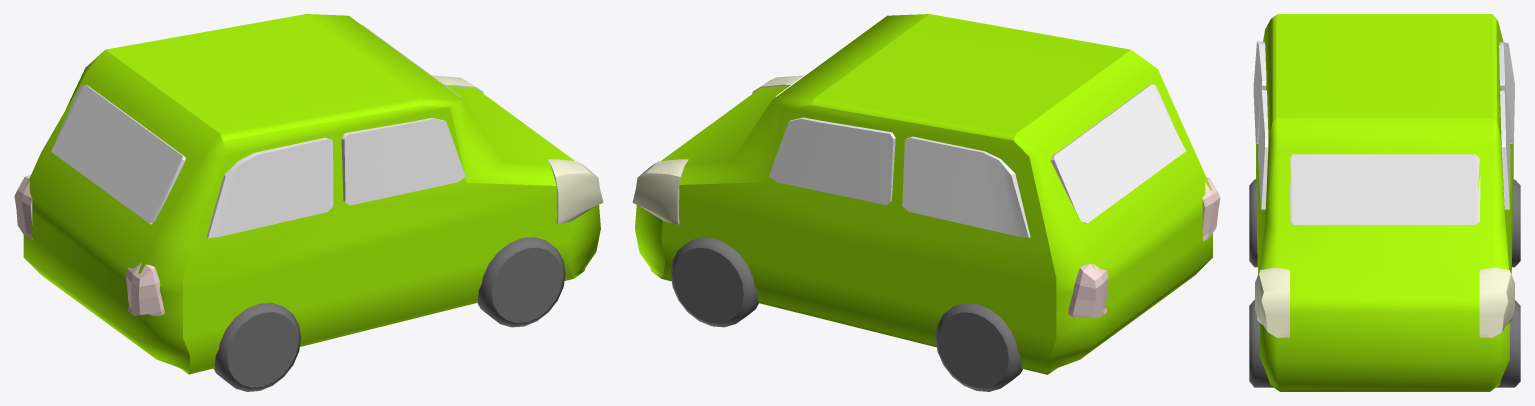
File: CarroVerde.fbx
3 renders of one model, left to right at view 1: azimuth 30°, elevation 25°; view 2: azimuth 150°, elevation 25°; view 3: azimuth 270°, elevation 25°, orthographic. The views are drawn at different scales.
Visible parts, largest first — view 1: pCube1, pCube10, pCube7, pCube8, pCylinder1, pCylinder2, pCube9, pCube11; view 2: pCube1, pCube10, pCube4, pCube3, pCylinder3, pCylinder4, pCube9, pCube11; view 3: pCube1, pCube6, pCube9, pCube4, pCylinder1, pCylinder3, pCube8, pCube3, pCube7, pCylinder4, pCylinder2.
Boxes of the visible parts, x1,y1,x2,y2 form: pCube1: (23,14,600,374); pCube10: (51,85,185,224); pCube7: (206,137,333,238); pCube8: (341,118,465,205); pCylinder1: (477,237,565,327); pCylinder2: (213,302,300,391); pCube9: (432,75,603,224); pCube11: (14,175,165,315); pCube1: (635,14,1212,374); pCube10: (1050,84,1185,223); pCube4: (902,136,1030,237); pCube3: (768,117,895,204); pCylinder3: (670,237,758,327); pCylinder4: (935,303,1022,391); pCube9: (632,75,803,224); pCube11: (1068,178,1220,317); pCube1: (1256,14,1513,391); pCube6: (1289,154,1480,224); pCube9: (1255,267,1514,337); pCube4: (1499,42,1514,143); pCylinder1: (1249,299,1273,387); pCylinder3: (1496,300,1520,387); pCube8: (1258,90,1268,209); pCube3: (1500,90,1510,209); pCube7: (1253,41,1266,143); pCylinder4: (1512,179,1520,267); pCylinder2: (1249,179,1257,267).
Size of the model in its own units: 20.49 by 10.7 by 11.09.
